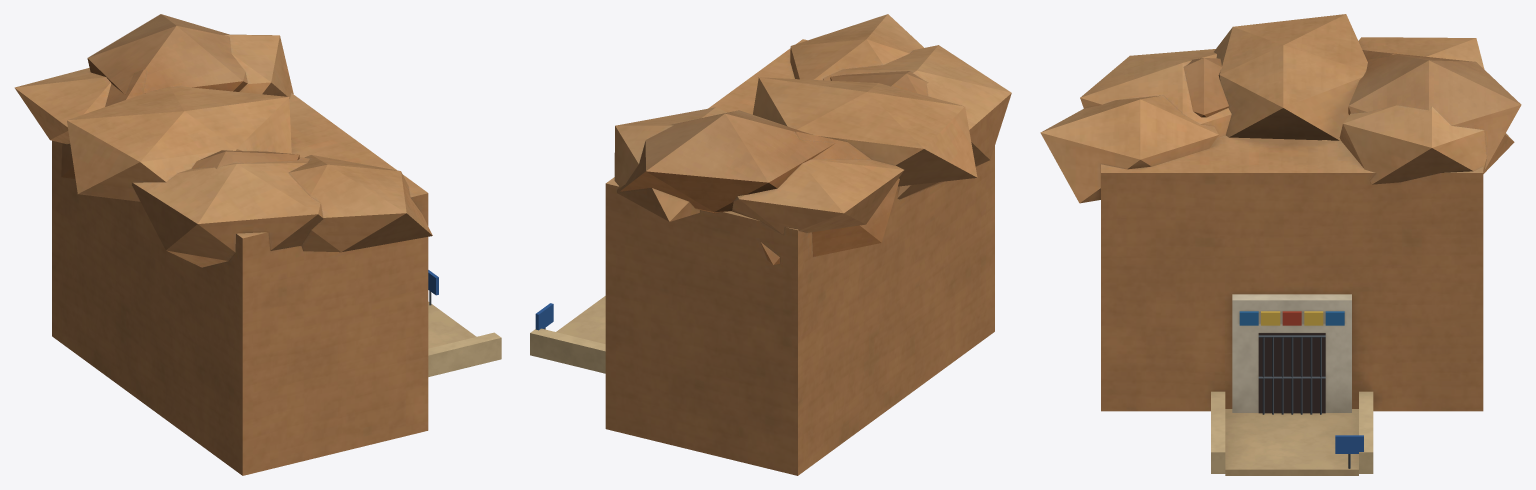
Rendered from gravport_tex.glb.
3 views of the same model, side by side, from view 1: azimuth 30°, elevation 25°; view 2: azimuth 150°, elevation 25°; view 3: azimuth 270°, elevation 25° (orthographic). The views are drawn at different scales.
Visible parts, largest first — view 1: gravport; view 2: gravport; view 3: gravport.
Boxes of the visible parts, bbox=[...] form: gravport: bbox=[14, 14, 501, 475]; gravport: bbox=[530, 14, 1011, 475]; gravport: bbox=[1040, 14, 1521, 475].
Bounding box in the file's own units: 18.79 × 14.31 × 20.14.
11 materials, 5 textured.
